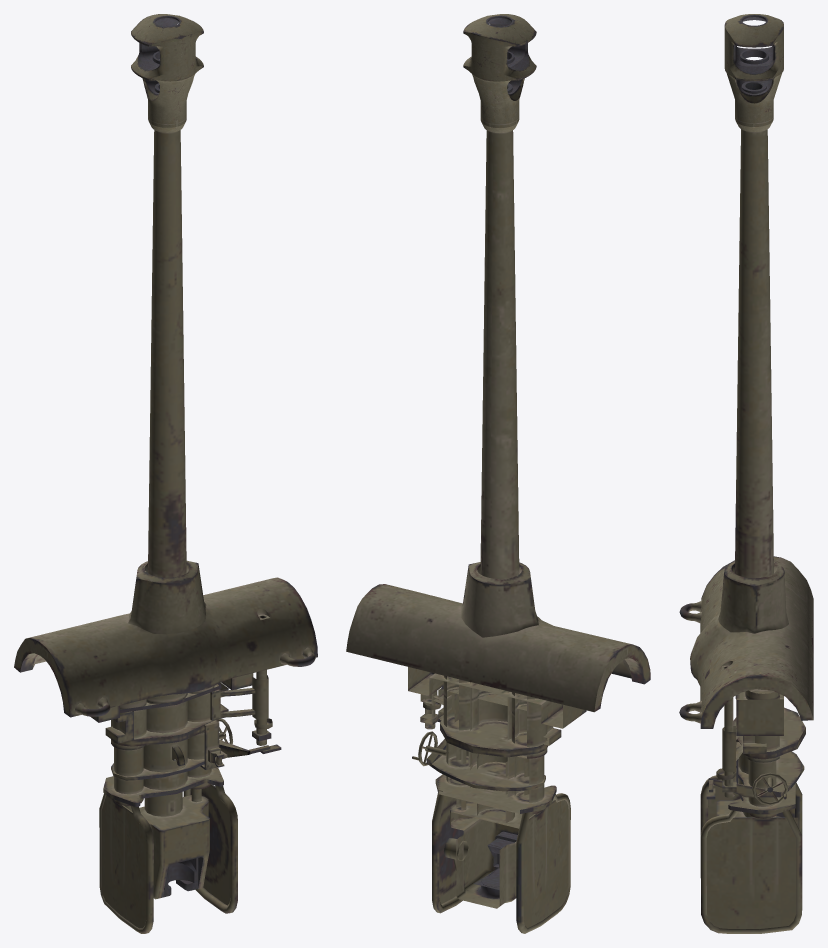
The model's file is Gun_01.glb.
3 renders of one model, left to right at view 1: azimuth 30°, elevation 25°; view 2: azimuth 150°, elevation 25°; view 3: azimuth 270°, elevation 25°, orthographic.
Parts seen in each view (by area): view 1: set_0_group_0; view 2: set_0_group_0; view 3: set_0_group_0.
Boxes of the visible parts, bbox=[...] form: set_0_group_0: bbox=[14, 14, 317, 933]; set_0_group_0: bbox=[346, 14, 650, 933]; set_0_group_0: bbox=[679, 14, 813, 933].
Bounding box in the file's own units: 1.36 × 4.66 × 0.6357.
Materials: 1 (1 with a texture image).
